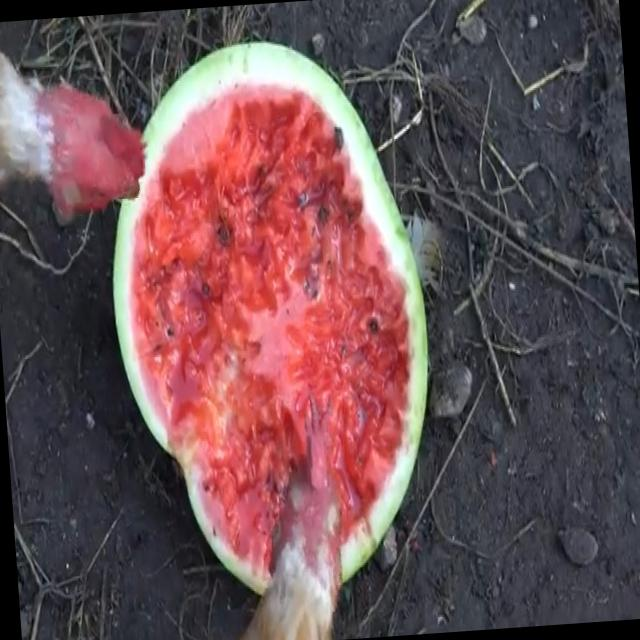feeding: (224, 406, 376, 640), (0, 11, 158, 209)
